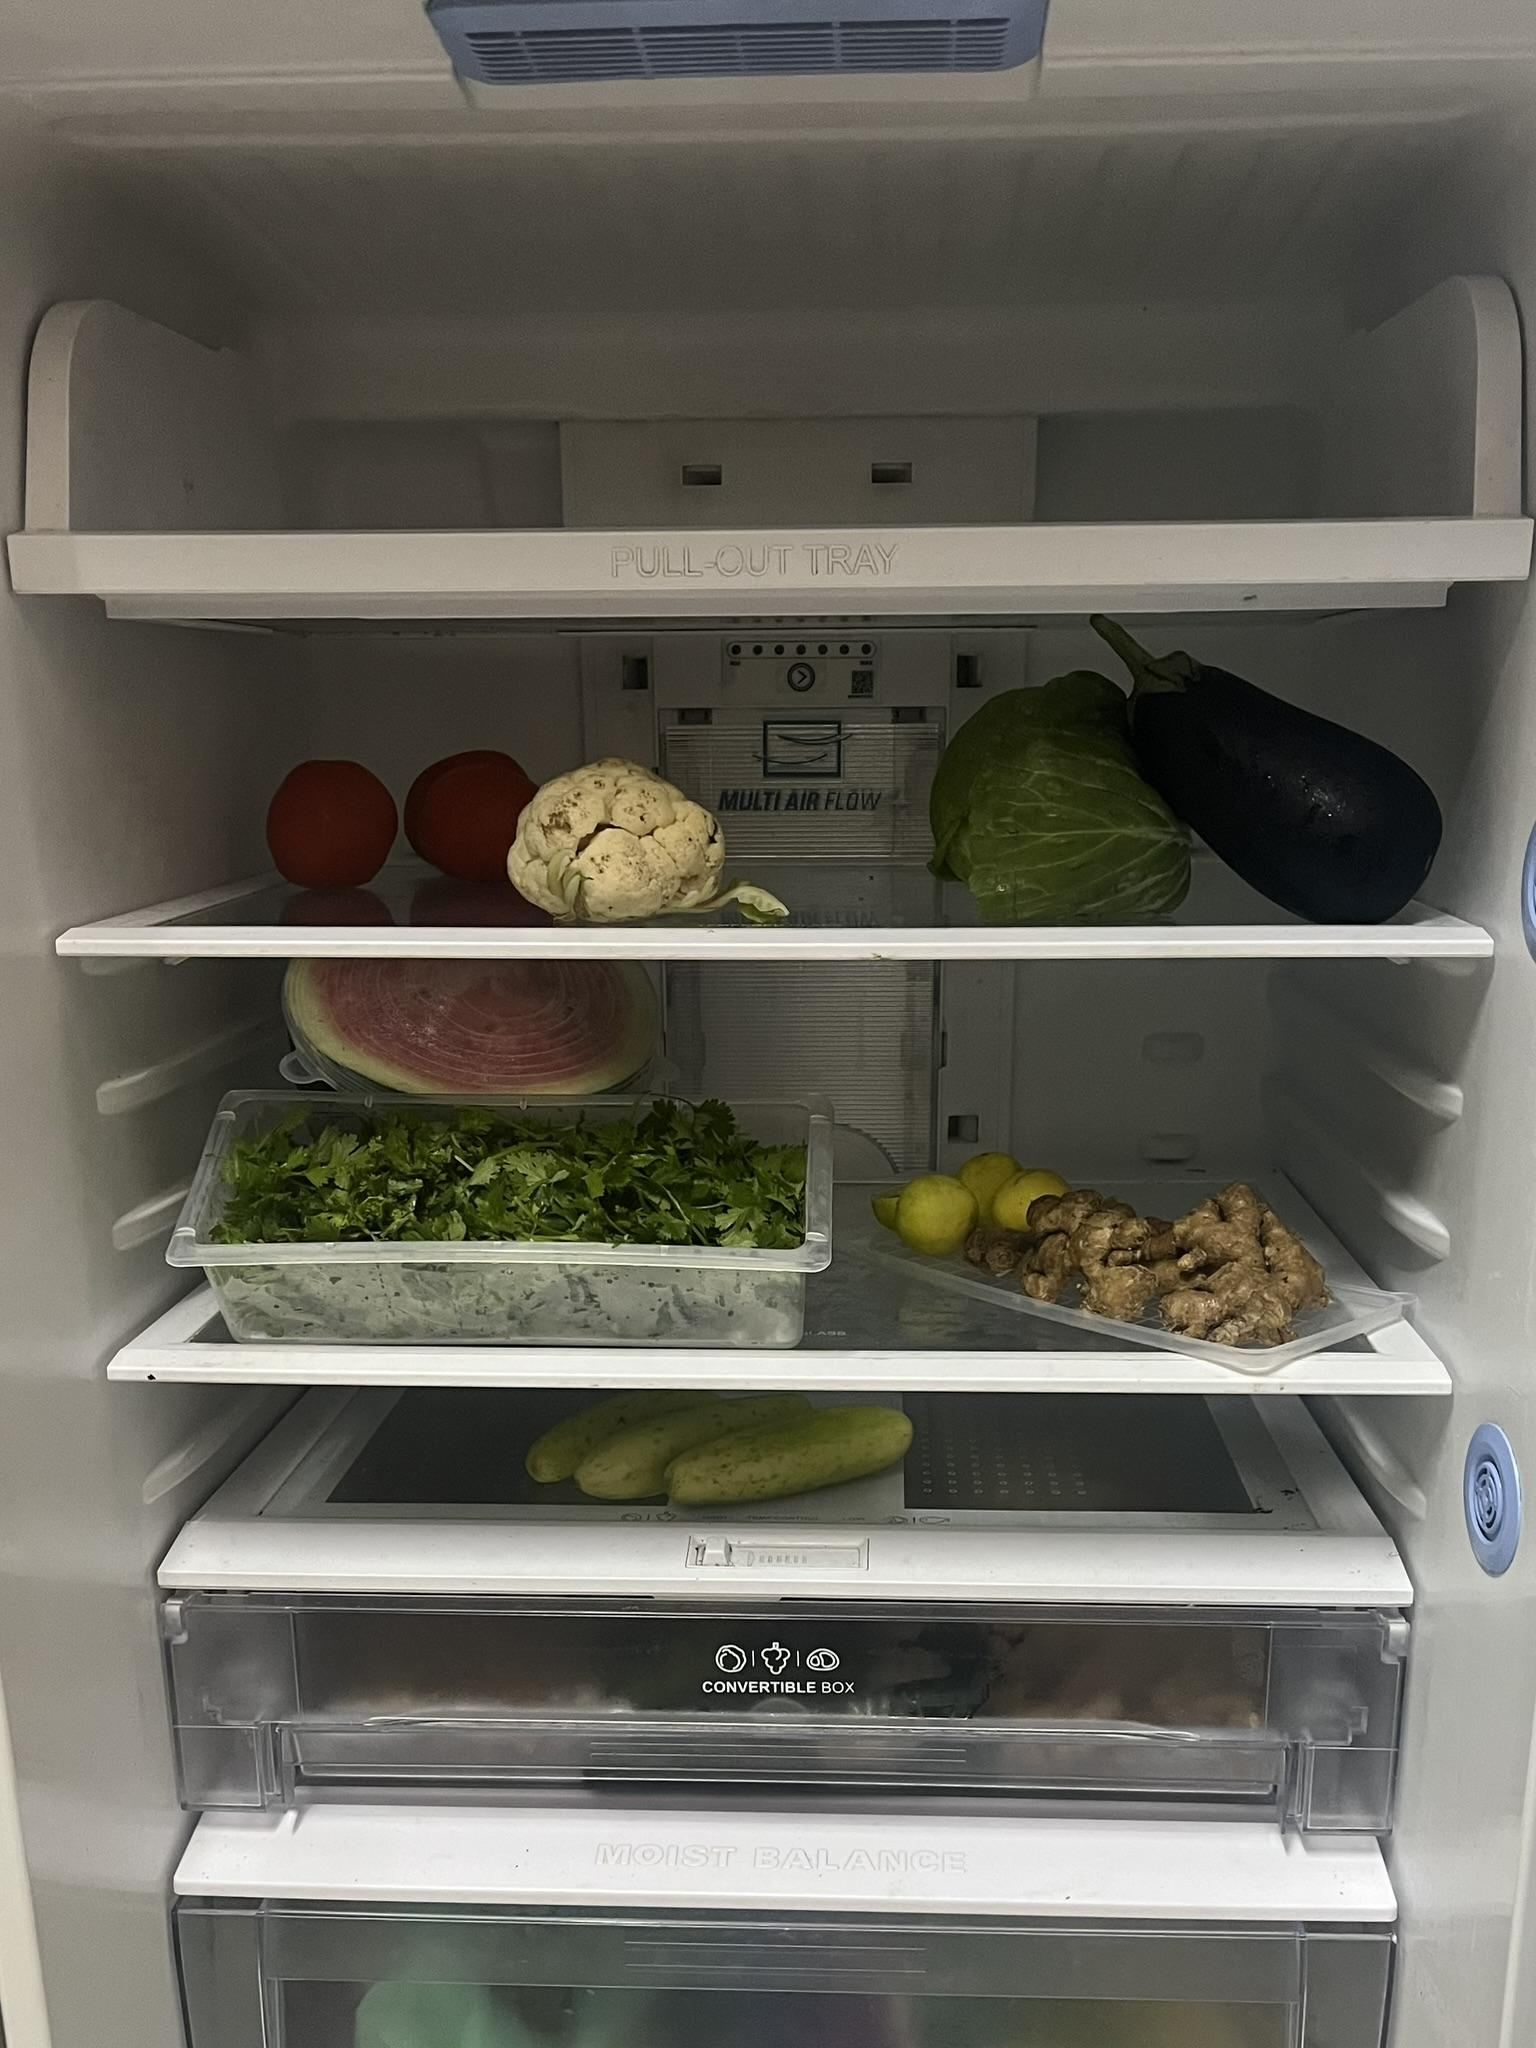bringal: (1118, 626, 1446, 905)
cabbage: (929, 676, 1205, 910)
cauliflower: (492, 750, 729, 921)
coriander: (205, 1092, 800, 1314)
cucumber: (520, 1390, 918, 1493)
ginger: (979, 1176, 1329, 1343)
lemon: (887, 1153, 1068, 1235)
tomato: (274, 742, 482, 908)
watermelon: (286, 950, 665, 1095)
